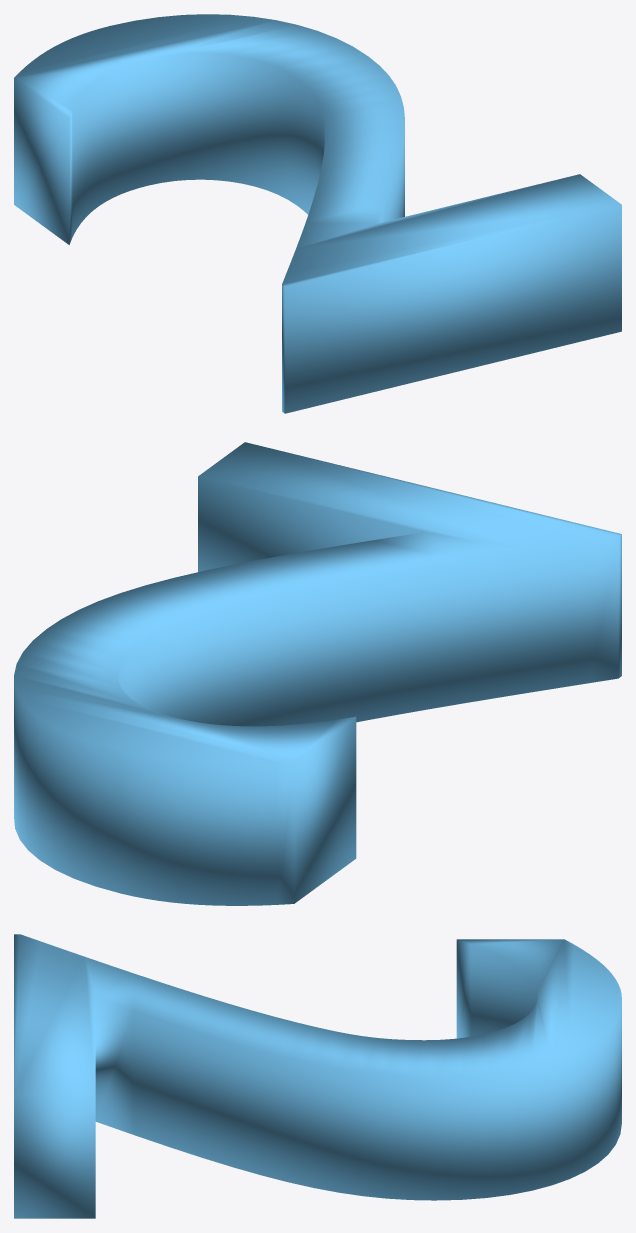
3 views of the same model, one above another, from view 1: azimuth 30°, elevation 25°; view 2: azimuth 150°, elevation 25°; view 3: azimuth 270°, elevation 25° (orthographic). The views are drawn at different scales.
Parts seen in each view (by area): view 1: テキスト; view 2: テキスト; view 3: テキスト.
Part boxes in pixels (left/top/right/bottom): テキスト: left=14, top=14, right=621, bottom=413; テキスト: left=14, top=442, right=621, bottom=905; テキスト: left=14, top=934, right=621, bottom=1218.
Size of the model in its own units: 43.2 by 15.54 by 69.1.
1 material, 1 textured.
